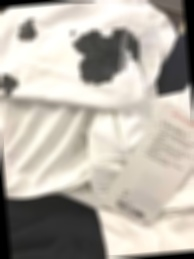ink: (73, 27, 137, 86), (16, 18, 38, 43), (0, 72, 22, 97)
